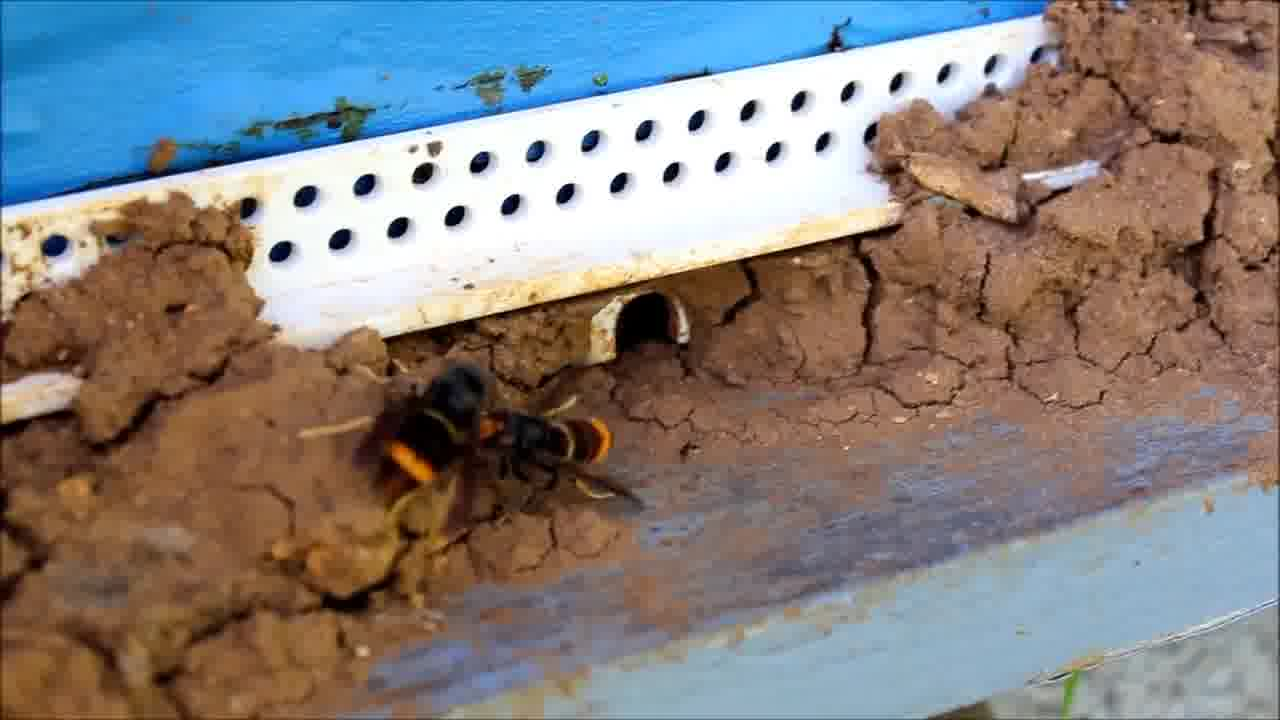hornet: (359, 351, 508, 528), (478, 405, 635, 514)
